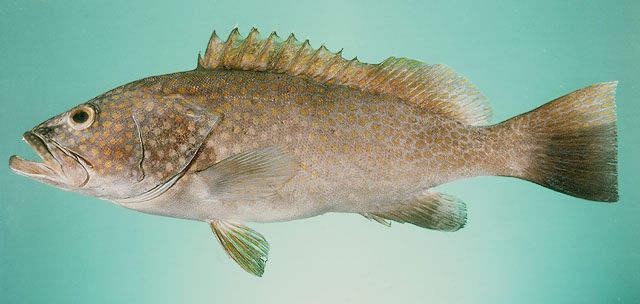fish: (9, 22, 620, 279)
